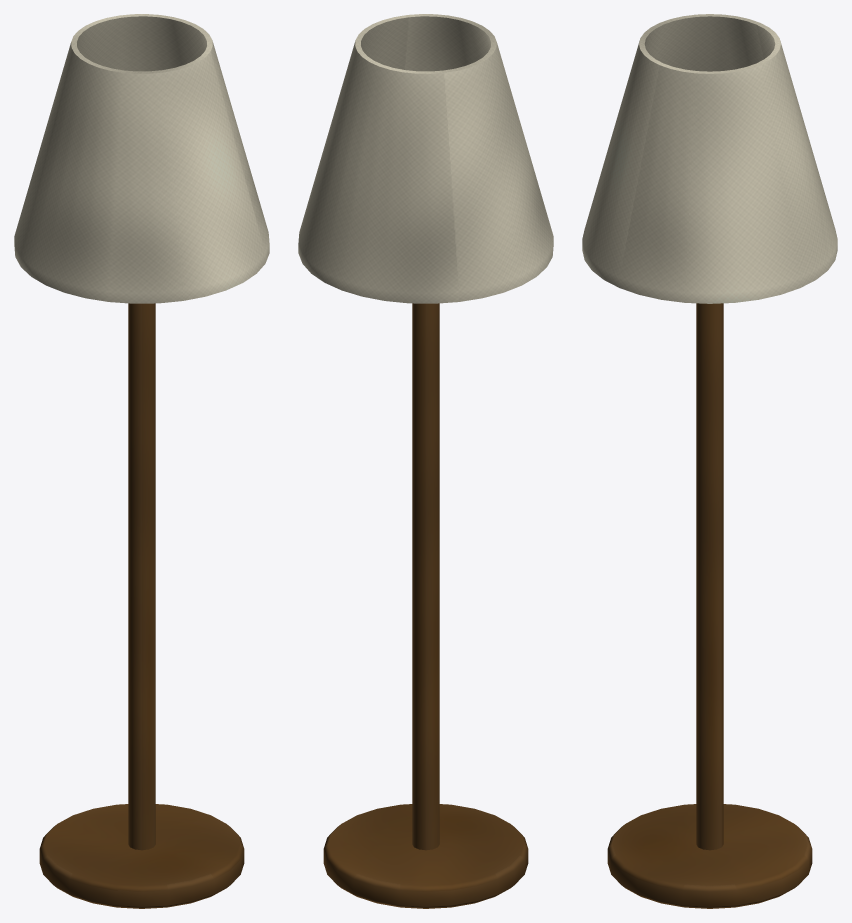
File: Furn_FloorLamp.fbx
The picture shows the model from 3 angles, left to right: view 1: azimuth 30°, elevation 25°; view 2: azimuth 150°, elevation 25°; view 3: azimuth 270°, elevation 25°; orthographic projection.
Parts seen in each view (by area): view 1: Furn_FloorLamp; view 2: Furn_FloorLamp; view 3: Furn_FloorLamp.
Part boxes in pixels (x1=…): Furn_FloorLamp: x1=14, y1=14, x2=269, y2=908; Furn_FloorLamp: x1=298, y1=14, x2=553, y2=908; Furn_FloorLamp: x1=582, y1=14, x2=837, y2=908.
Bounding box in the file's own units: 0.45 × 1.6 × 0.45.
3 materials, 2 textured.
